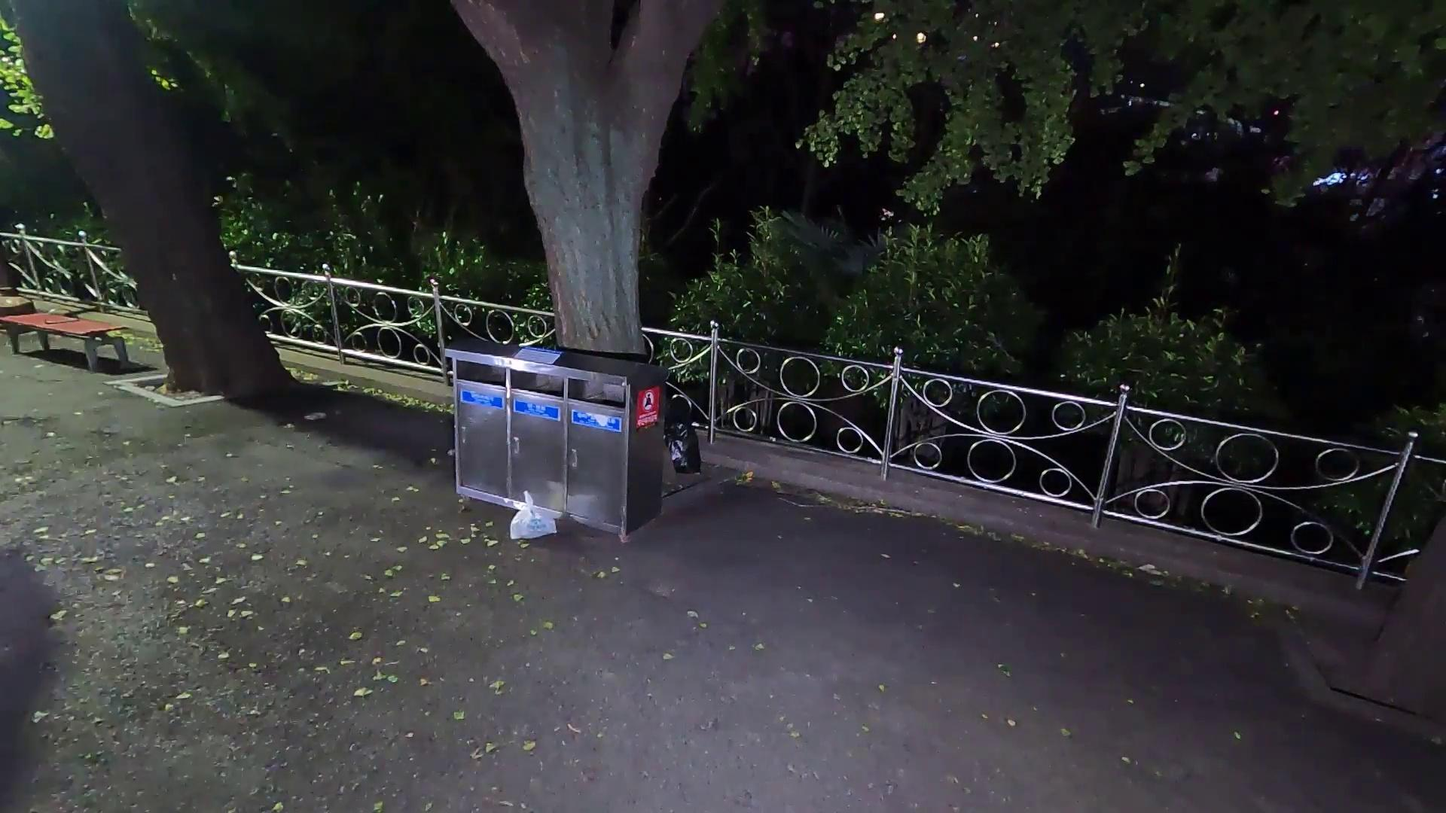trash: (501, 483, 570, 547), (671, 412, 705, 493)
